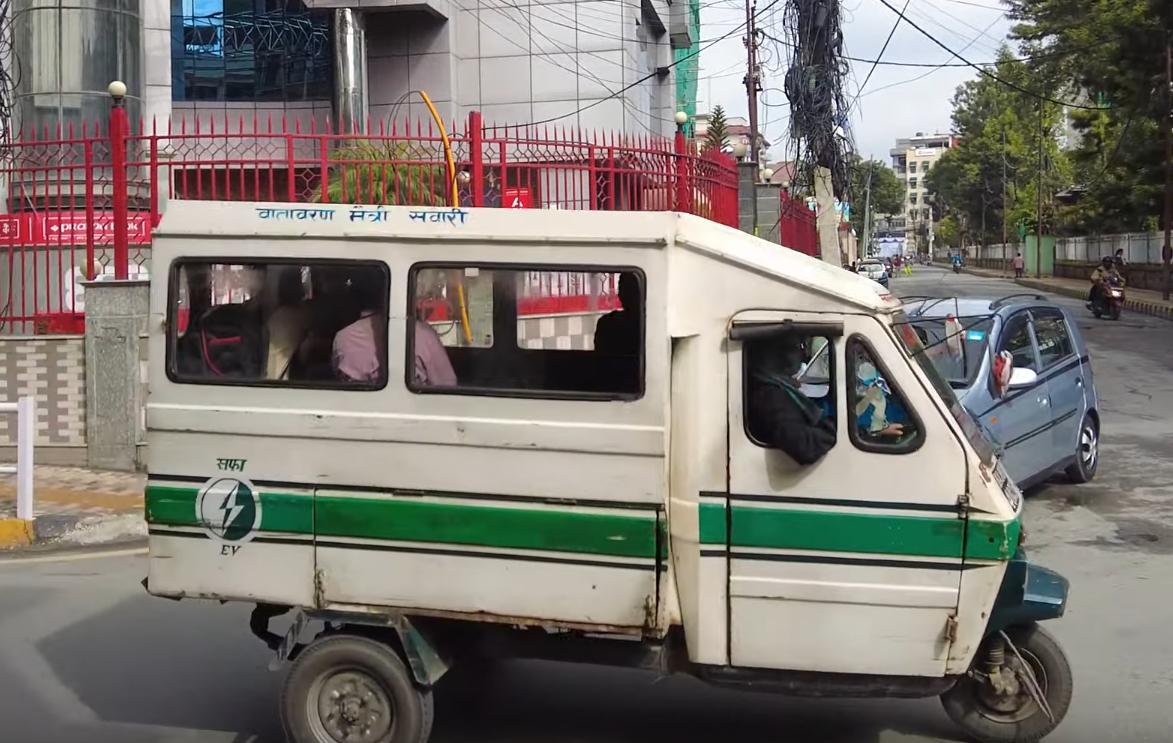car: (856, 280, 1108, 500)
scooter: (1091, 269, 1128, 321)
tempo: (144, 188, 1084, 743)
